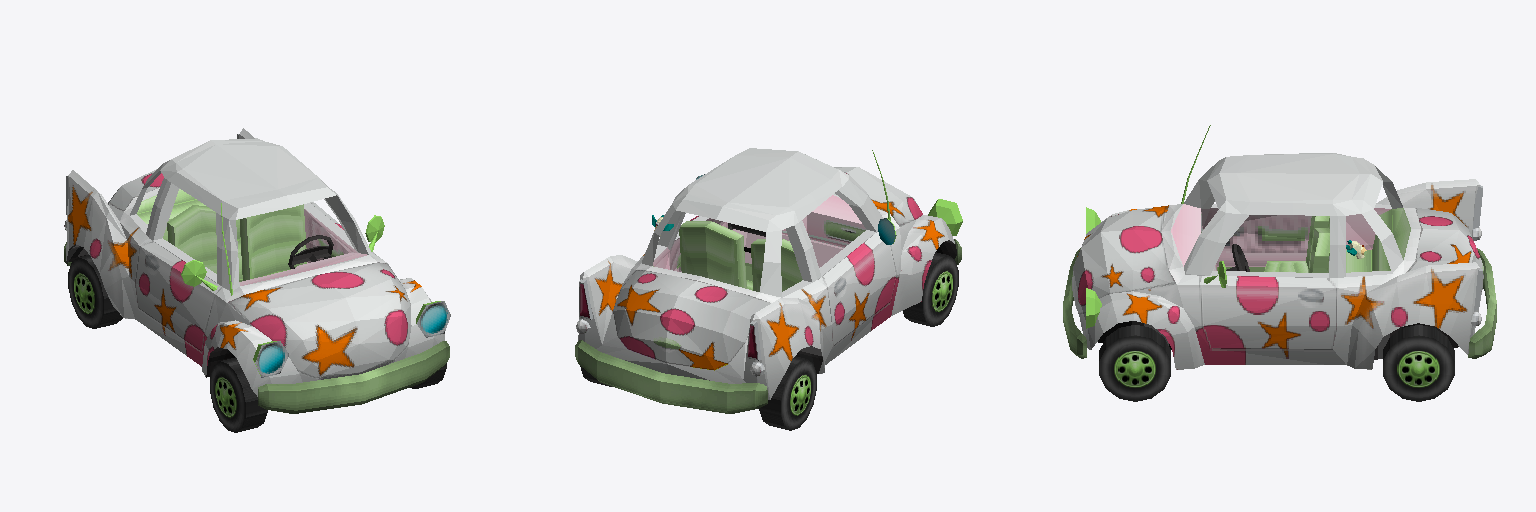
3 renders of one model, left to right at view 1: azimuth 30°, elevation 25°; view 2: azimuth 150°, elevation 25°; view 3: azimuth 270°, elevation 25°, orthographic.
Visible parts, largest first — view 1: ClownCar; view 2: ClownCar; view 3: ClownCar.
Part boxes in pixels (x1,y1,x2,y2): ClownCar: (64, 128, 450, 432); ClownCar: (575, 148, 962, 430); ClownCar: (1063, 125, 1496, 401).
Size of the model in its own units: 2.17 by 1.92 by 3.9.
Materials: 10 (10 with a texture image).